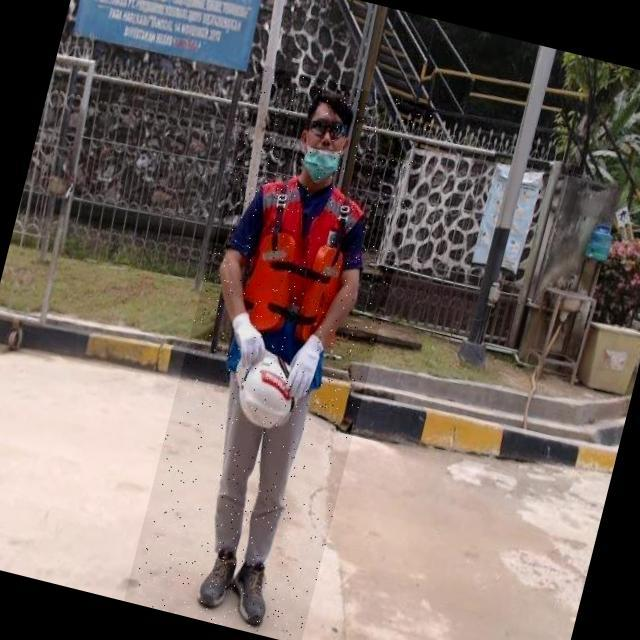Helmet: (222, 345, 309, 436)
Human: (123, 63, 434, 640)
Safety Boot: (227, 557, 279, 630), (193, 543, 242, 613)
Safety Vest: (216, 168, 370, 392)
